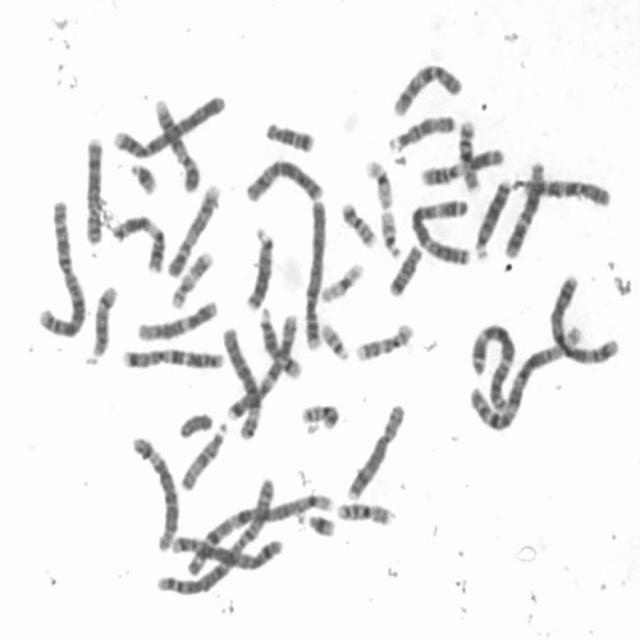A1: (184, 493, 336, 578), (468, 323, 582, 431)
A2: (156, 476, 274, 598), (36, 200, 85, 342)
A3: (470, 323, 516, 415), (411, 198, 470, 268)
B4: (114, 95, 226, 161), (303, 200, 329, 351)
B5: (548, 274, 623, 367), (171, 532, 284, 574)
C10: (391, 62, 466, 116), (523, 178, 614, 208)
C11: (419, 147, 505, 188), (108, 214, 166, 274)
C12: (502, 160, 544, 262), (136, 300, 222, 344)
C6: (130, 437, 180, 557), (218, 326, 264, 441)
C7: (224, 313, 297, 423), (122, 345, 226, 373)
C8: (345, 400, 408, 501), (83, 134, 102, 245)
C9: (166, 184, 223, 280), (154, 99, 200, 192)
D13: (474, 179, 511, 261), (243, 226, 277, 314)
D14: (258, 303, 304, 381), (84, 286, 120, 369)
D15: (180, 421, 227, 492), (388, 116, 456, 154)
E16: (457, 120, 481, 193), (336, 501, 399, 528)
E17: (169, 252, 214, 312), (356, 321, 412, 363)
E18: (261, 118, 317, 154), (387, 242, 422, 298)
F19: (319, 262, 365, 306), (364, 158, 396, 212)
F20: (336, 202, 378, 250), (300, 399, 342, 433)
G21: (294, 512, 336, 540), (130, 164, 160, 198)
G22: (320, 320, 350, 365), (379, 208, 404, 260)
X: (245, 157, 326, 205)
Y: (176, 412, 214, 442)
